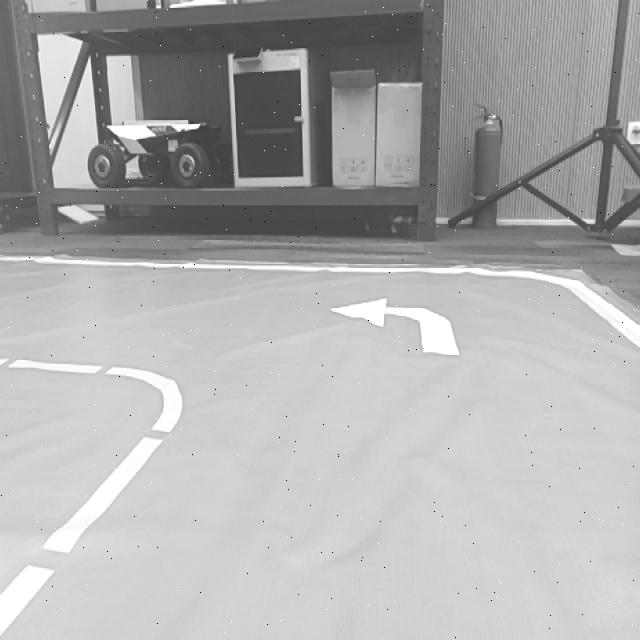left_lane: (0, 402, 181, 634)
right_lane: (568, 287, 640, 351)
